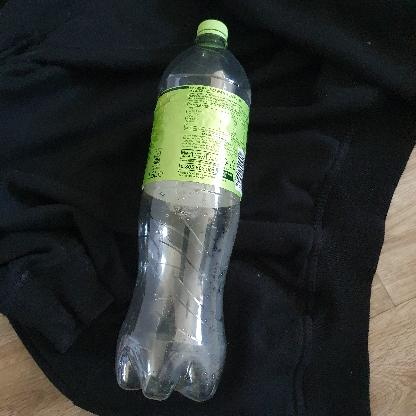Plastic Bottle: (114, 18, 252, 402)
